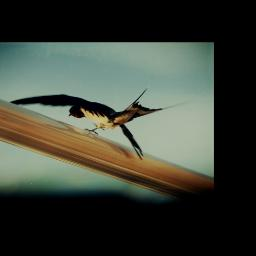Swallow: (7, 86, 194, 162)
